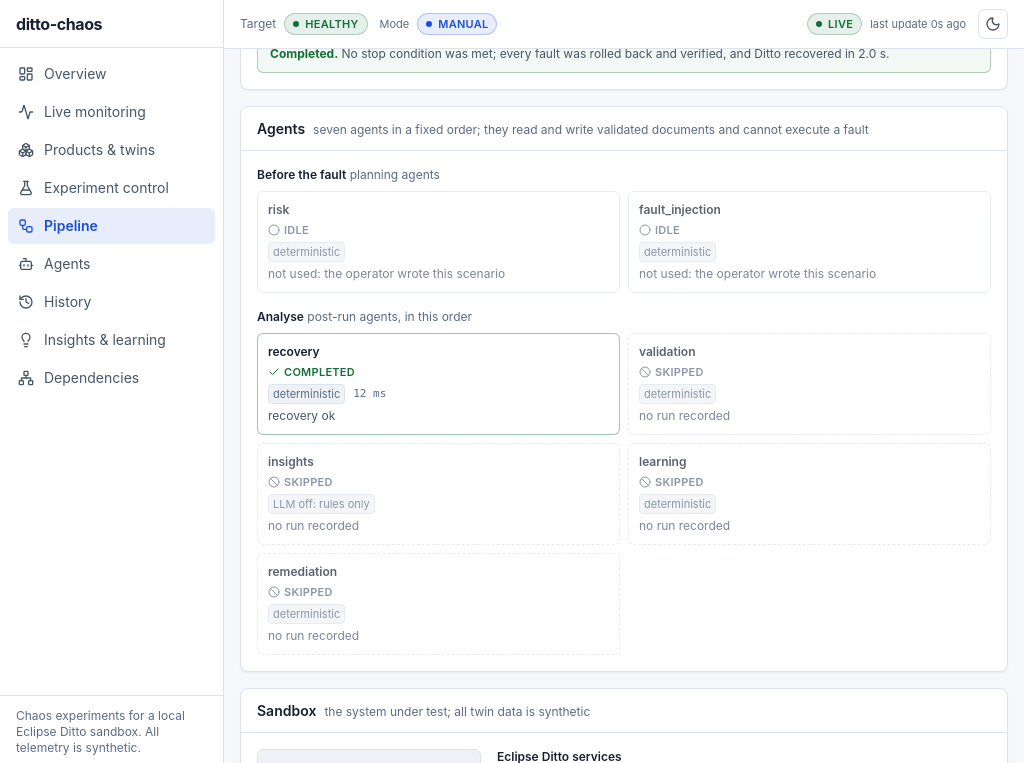
Test: Agents lane › opens an agent's stored run, read-only, with its input reference and output document
(page scrolled)
Click the button "recovery completed deterministic 12 ms recovery ok". click: coordinates (294, 352)
box: [257,333,620,435]
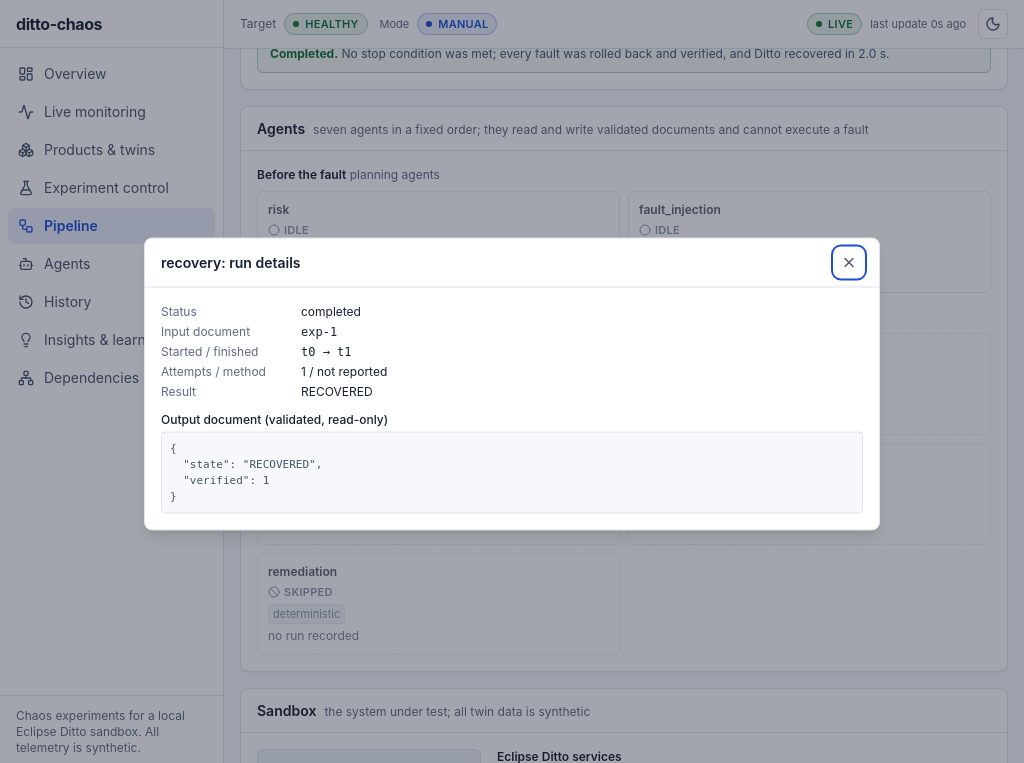
Now the text "Output document (validated, read-only)" is shown, box [161,412,388,426]
Now the text "{ \"state\": \"RECOVERED\", \"verified\": 1 }" is shown, box [161,432,863,514]
Now the text "exp-1" is shown, box [301,324,337,338]
